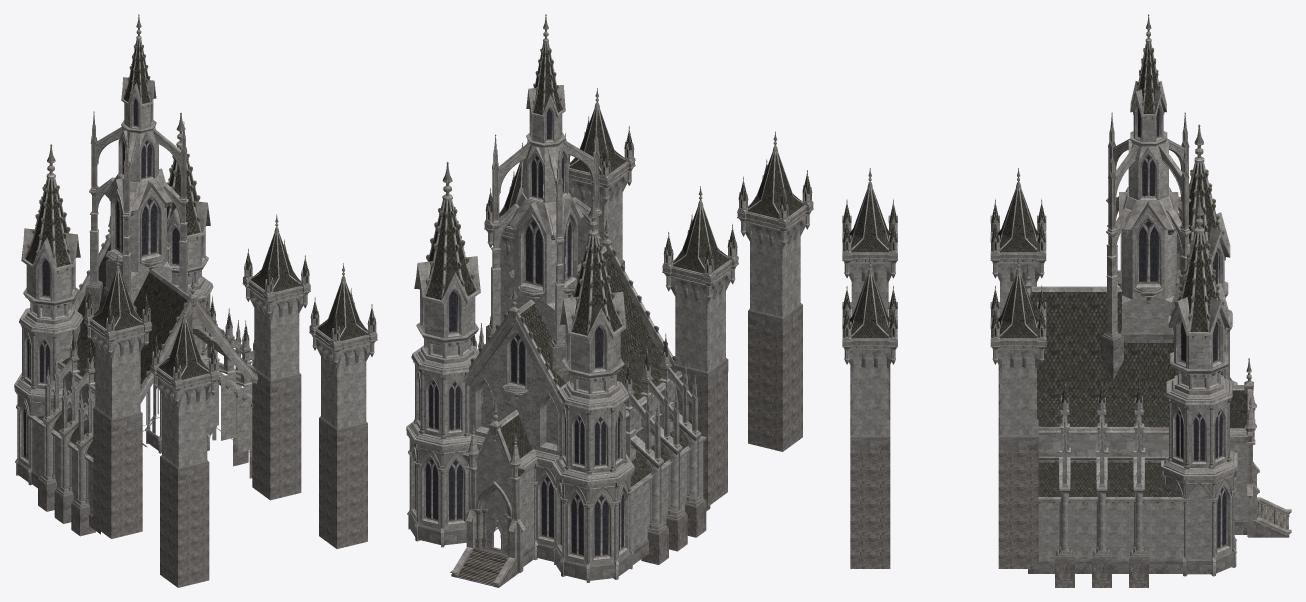
File: eso_ss16_buildingbig2-transformed.glb
The picture shows the model from 3 angles, left to right: view 1: azimuth 30°, elevation 25°; view 2: azimuth 150°, elevation 25°; view 3: azimuth 270°, elevation 25°; orthographic projection. The views are drawn at different scales.
Parts seen in each view (by area): view 1: default; view 2: default; view 3: default.
Part boxes in pixels (left/top/right/bottom): default: left=14, top=14, right=377, bottom=587; default: left=406, top=14, right=813, bottom=587; default: left=842, top=14, right=1291, bottom=587.
Size of the model in its own units: 102 by 226 by 177.
8 materials, 8 textured.
